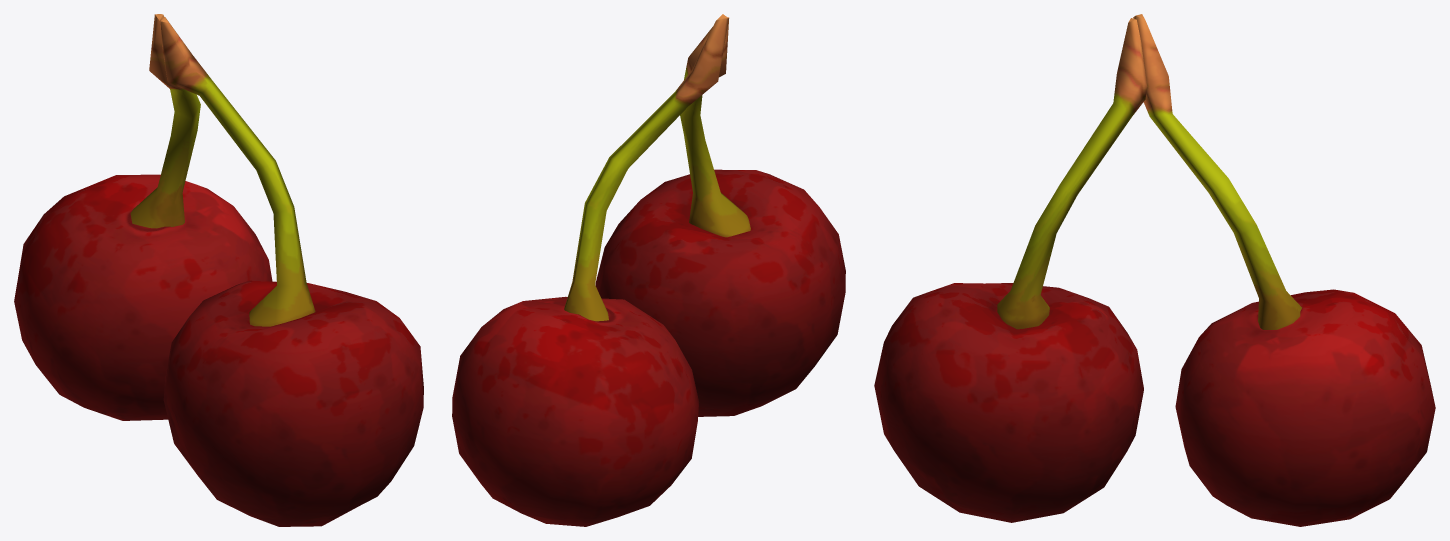
Rendered from SM_CherryDoubleB.fbx.
The picture shows the model from 3 angles, left to right: view 1: azimuth 30°, elevation 25°; view 2: azimuth 150°, elevation 25°; view 3: azimuth 270°, elevation 25°; orthographic projection. The views are drawn at different scales.
Visible parts, largest first — view 1: SM_CherryDoubleB; view 2: SM_CherryDoubleB; view 3: SM_CherryDoubleB.
Boxes of the visible parts, x1,y1,x2,y2 form: SM_CherryDoubleB: [14, 14, 423, 526]; SM_CherryDoubleB: [452, 14, 845, 526]; SM_CherryDoubleB: [874, 14, 1435, 526].
Size of the model in its own units: 5.02 by 10.09 by 11.03.
